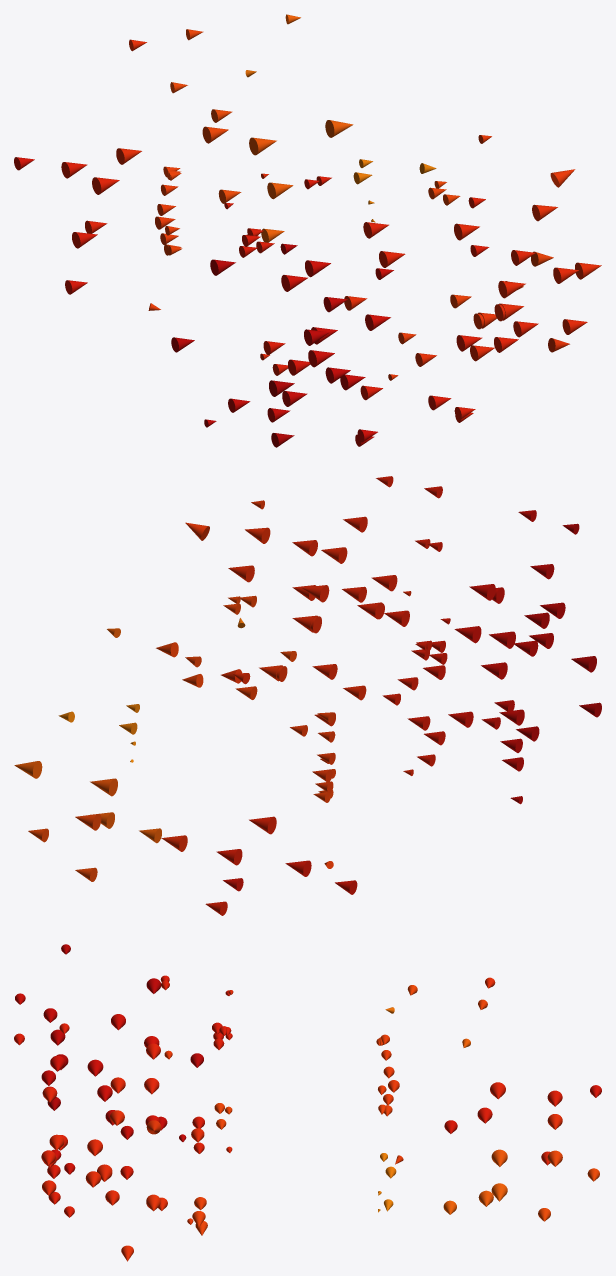
File: LineasCorrienteH2-O2_mh2-1.38_V-1.1.glb
3 views of the same model, one above another, from view 1: azimuth 30°, elevation 25°; view 2: azimuth 150°, elevation 25°; view 3: azimuth 270°, elevation 25° (orthographic). The views are drawn at different scales.
Size of the model in its own units: 0.000809 by 0.000484 by 0.00123.
Materials: 2 (2 with a texture image).
